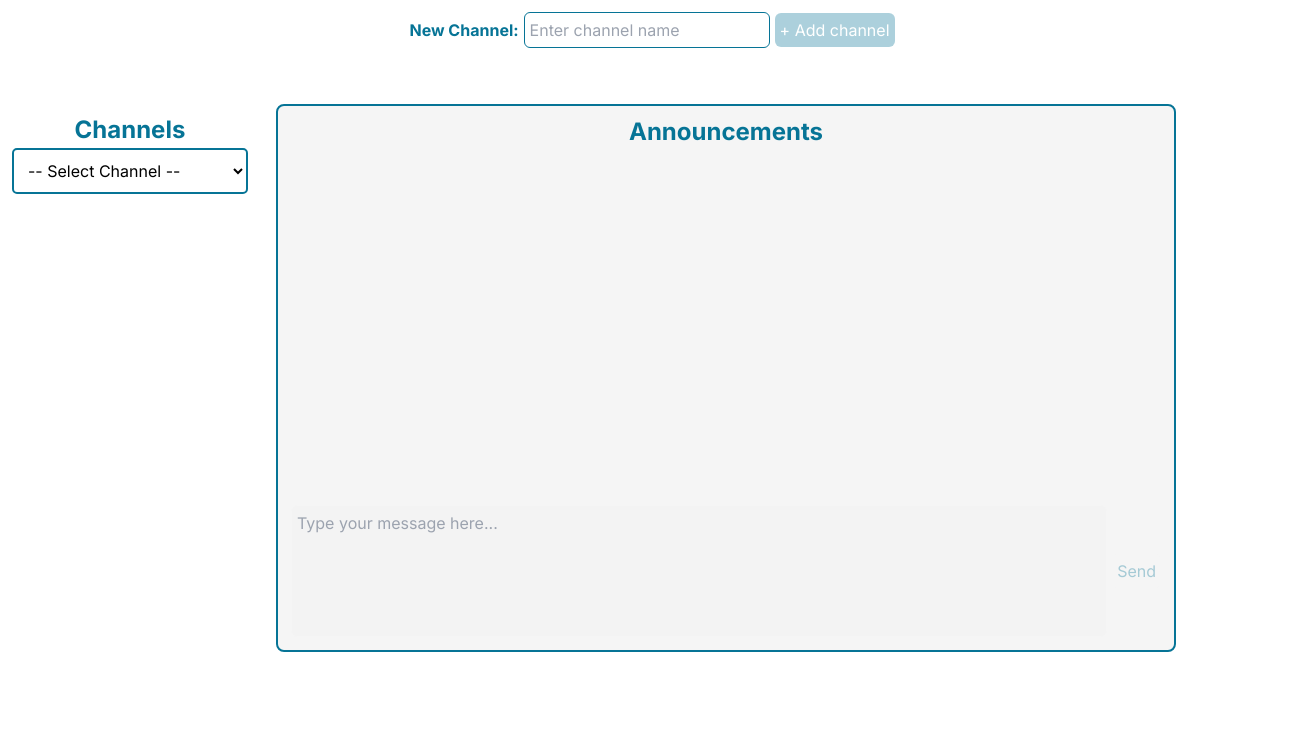
Chat Functionality › handles error when sending a message fails
The image size is (1292, 732).
In the text box with placeholder "Type your message here...": [699, 571] box [291,505,1107,637], type "Hello, world!"
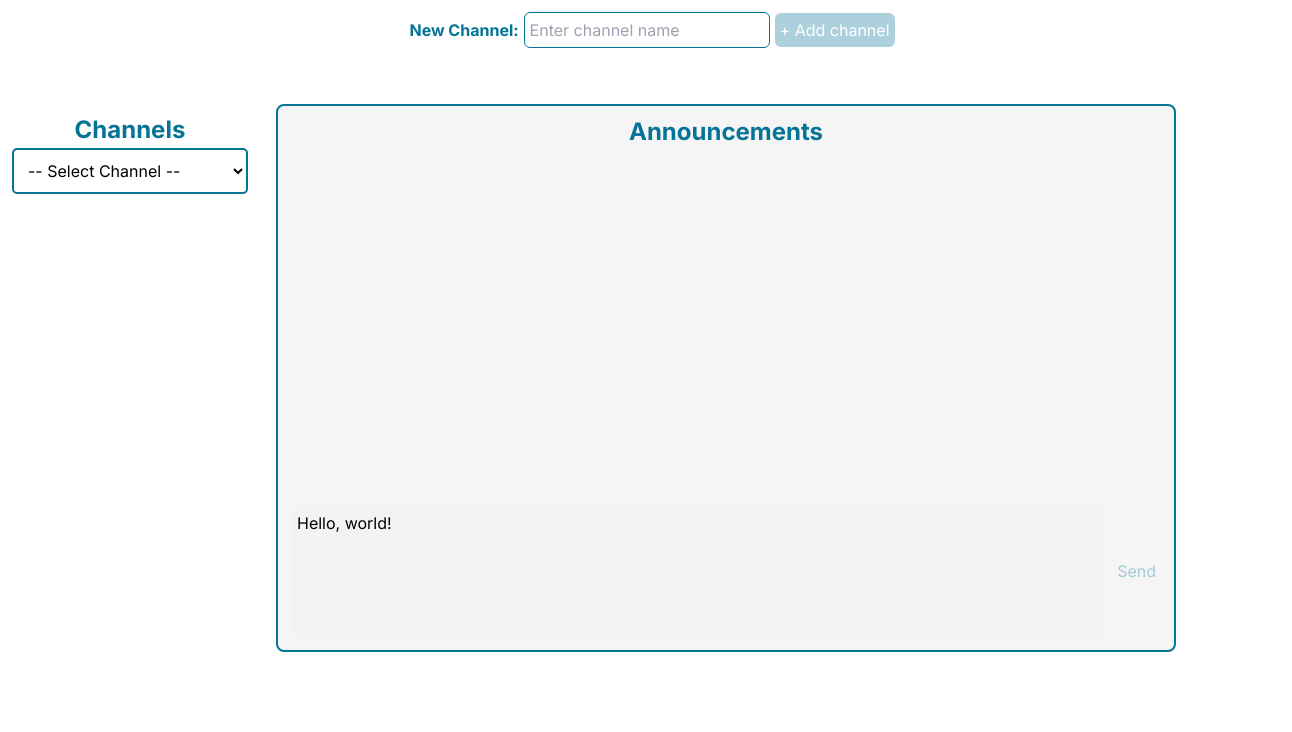
Click the button "Send": [1137, 571] box [1112,554,1161,588]
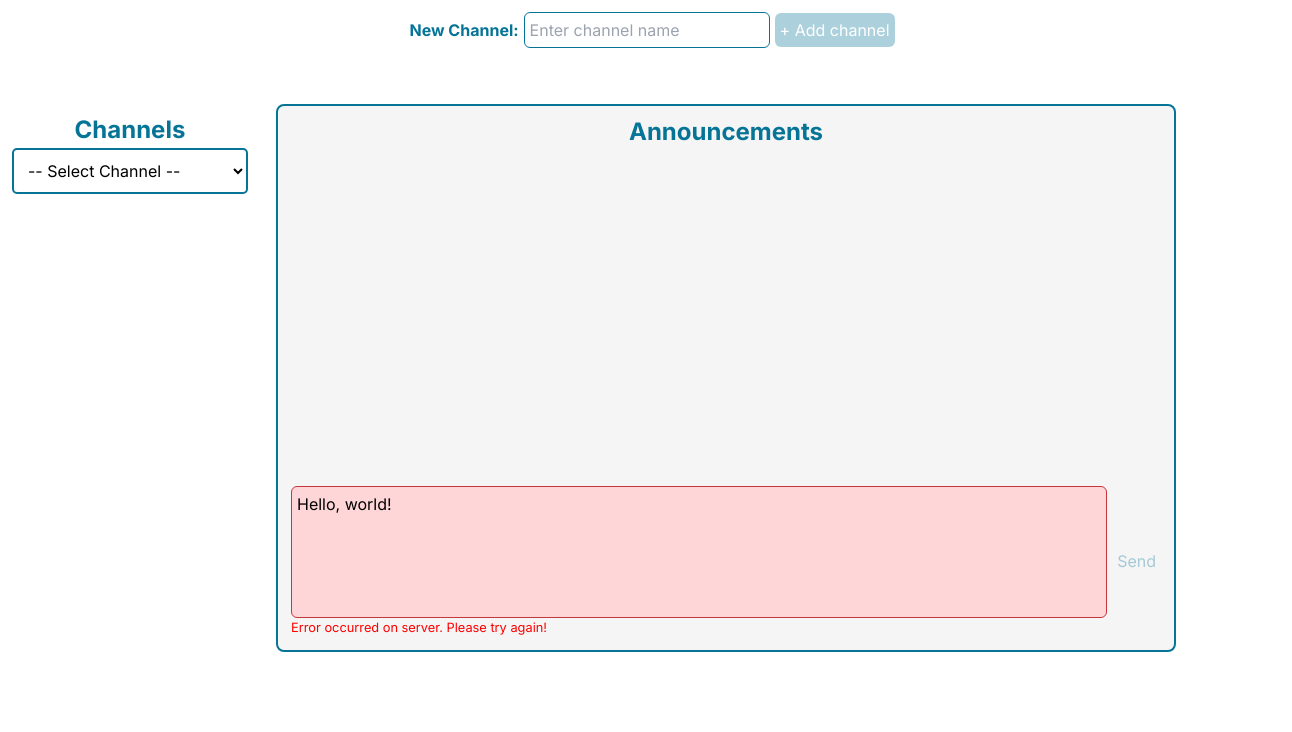
Expected: the text "Error occurred on server. Please try again!" is shown, [291,620,547,635]
